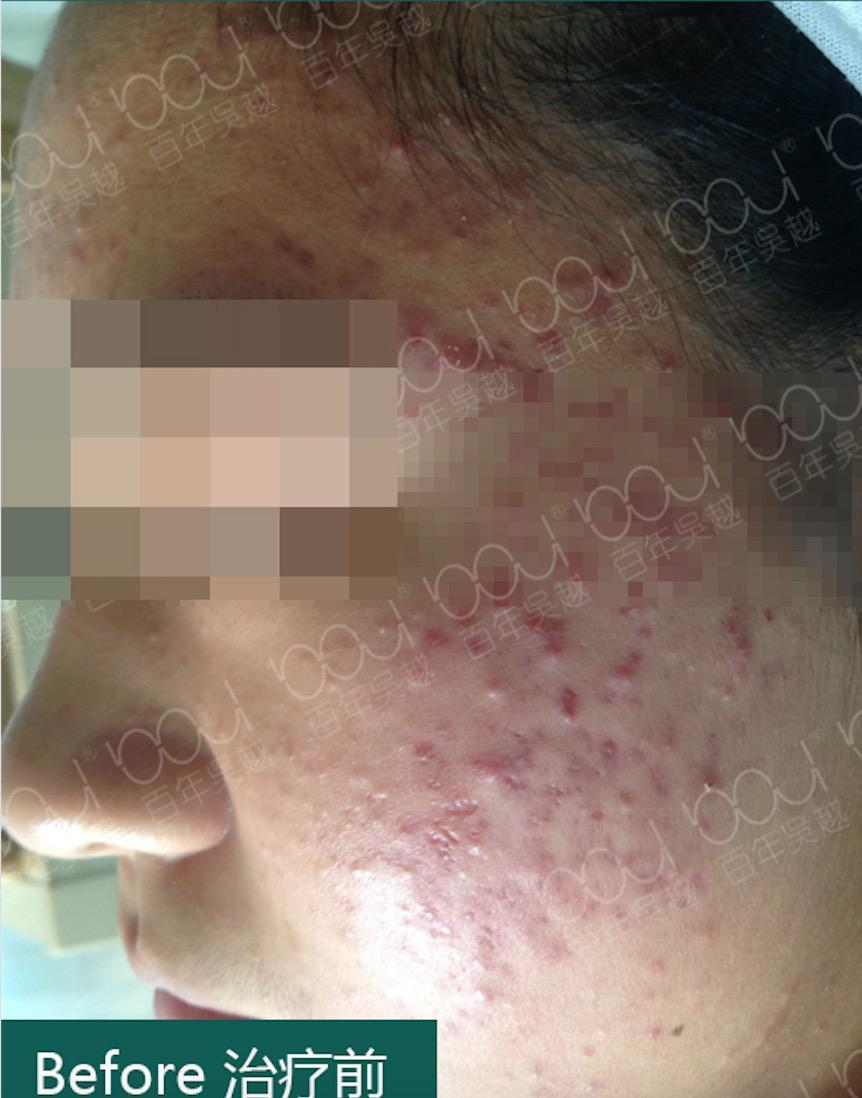fore: (258, 220, 314, 276), (548, 678, 599, 739), (536, 929, 594, 982), (723, 617, 774, 668), (451, 785, 494, 841), (392, 722, 441, 771), (341, 150, 378, 213), (392, 800, 443, 844), (524, 612, 572, 656), (528, 320, 584, 357), (426, 96, 468, 145), (441, 325, 480, 376), (587, 715, 633, 756), (380, 118, 414, 172), (672, 766, 718, 805), (470, 754, 516, 793), (599, 659, 650, 693), (563, 739, 602, 783), (460, 917, 507, 948), (580, 252, 626, 281), (402, 627, 448, 656), (582, 281, 616, 320), (499, 734, 541, 763), (390, 291, 421, 330)
